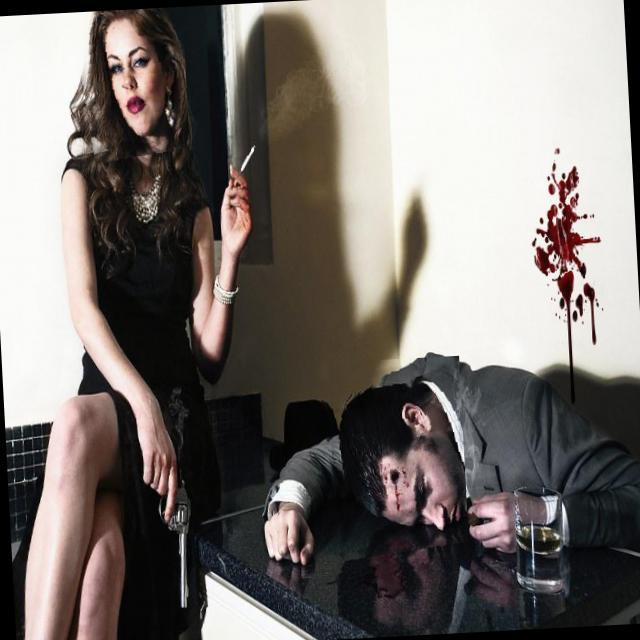cigarette: (226, 134, 270, 206)
